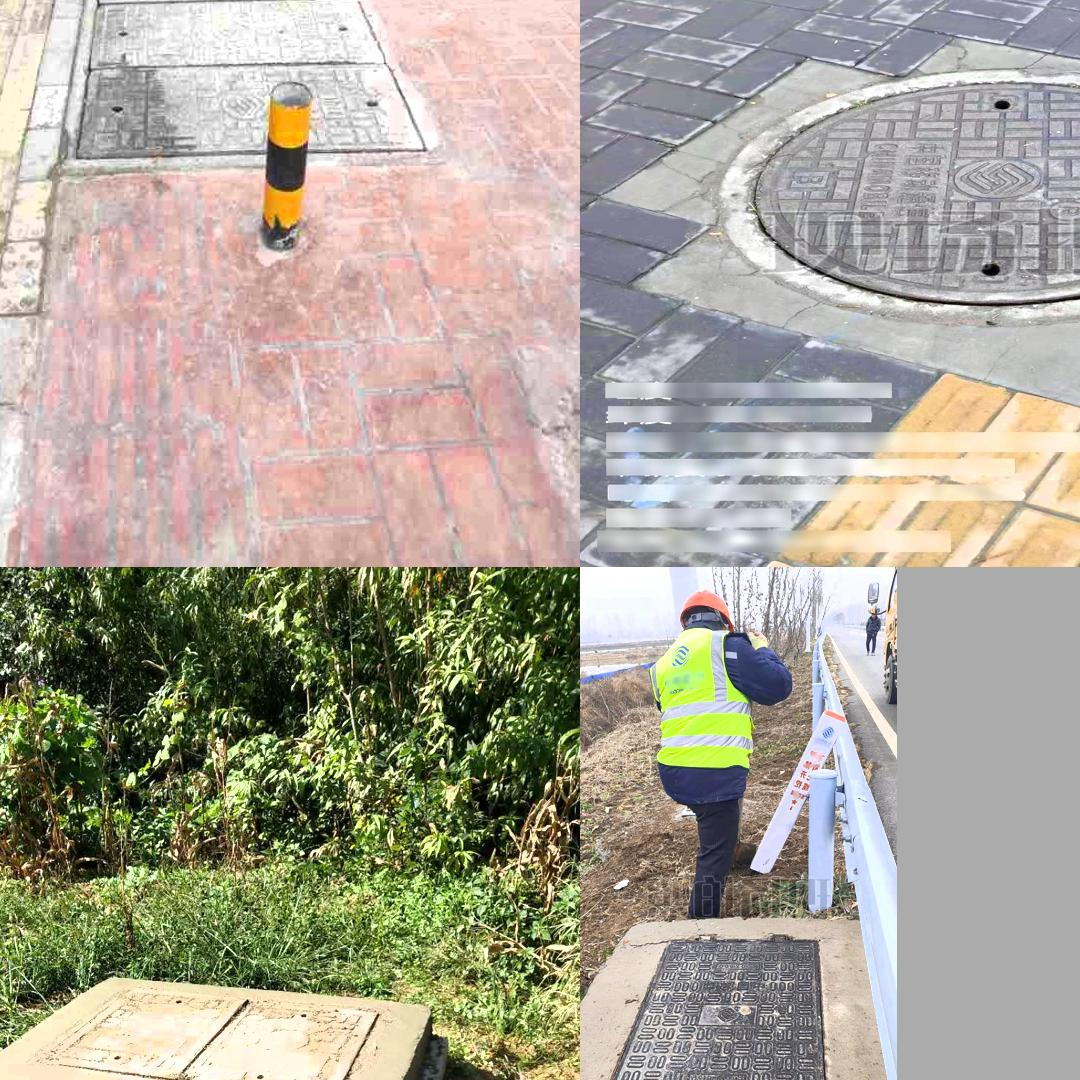good: (715, 69, 1080, 326), (64, 0, 423, 153), (36, 965, 384, 1080), (589, 932, 829, 1080)
